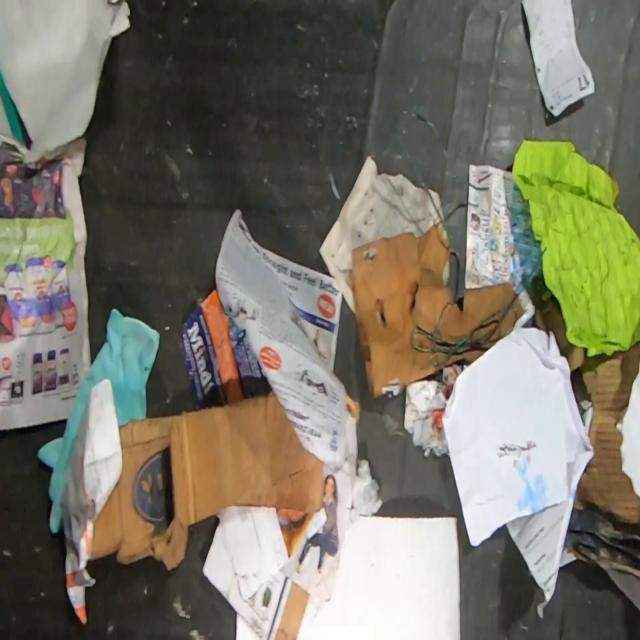cardboard: (90, 391, 325, 572), (348, 220, 526, 400), (532, 298, 640, 582)
soft_plastic: (36, 306, 162, 536)
